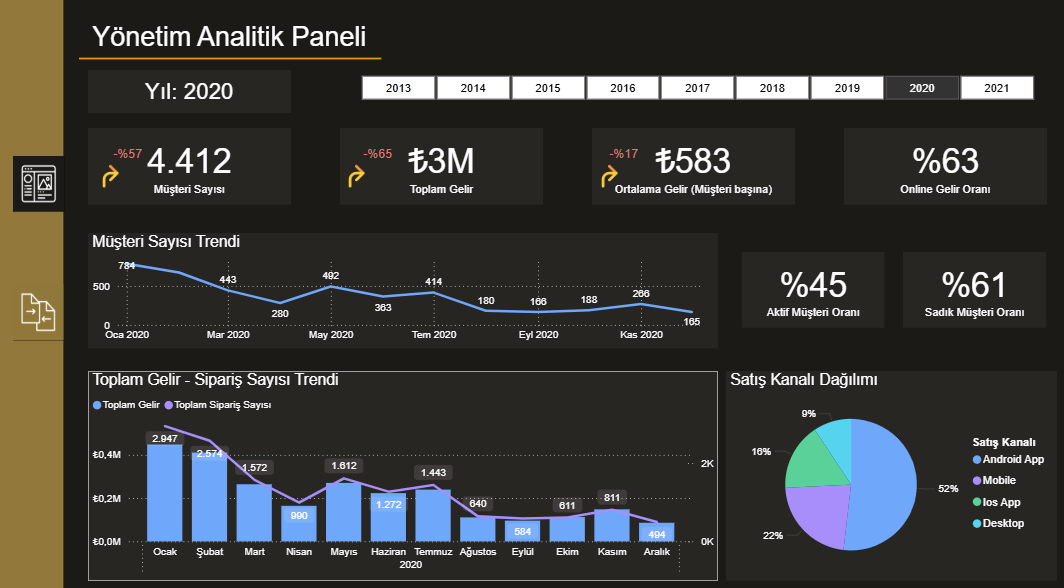

The dashboard page shown, as its layout file describes it:
{"tool":"powerbi","page":{"name":"Executive Summary","canvas":[1280,720],"ordinal":0},"visuals":[{"type":"card","fields":{"Values":["musteri_segmentleri.Müşteri Sayısı"]},"box":[108.9,162.3,240.9,90.7],"z":0},{"type":"card","fields":{"Values":["musteri_segmentleri.Toplam Gelir"]},"box":[408.2,162.3,240.9,90.7],"z":1000},{"type":"card","fields":{"Values":["musteri_segmentleri.Ortalama Gelir"]},"box":[707.5,162.3,240.9,90.7],"z":2000},{"type":"card","fields":{"Values":["musteri_segmentleri.Aktif Müşteri Oranı"]},"box":[885.9,310.4,169.3,89.7],"z":3000},{"type":"card","fields":{"Values":["musteri_segmentleri.Sadık Müşteri Oranı"]},"box":[1077.4,310.4,170.3,89.7],"z":4000},{"type":"card","fields":{"Values":["musteri_segmentleri.Online Gelir Oranı"]},"box":[1006.9,162.3,240.9,90.7],"z":5000},{"type":"lineChart","title":"Müşteri Sayısı Trendi","fields":{"Y":["Executive Summary.Müşteri Sayısı"],"Category":["dim Tarih.Date.Variation.Tarih Hiyerarşisi.Yıl","dim Tarih.Date.Variation.Tarih Hiyerarşisi.Ay"]},"box":[108.9,287.2,747.8,137.1],"z":6000},{"type":"pieChart","title":"Satış Kanalı Dağılımı","fields":{"Category":["musteri_segmentleri.order_channel"],"Y":["Executive Summary.Müşteri Sayısı"]},"box":[867.3,450.9,393,248.9],"z":7000},{"type":"slicer","fields":{"Values":["dim Tarih.Yıl"]},"box":[408.2,93.7,847.6,42.3],"z":8000},{"type":"lineStackedColumnComboChart","title":"Toplam Gelir - Sipariş Sayısı Trendi","fields":{"Category":["dim Tarih.Date.Variation.Tarih Hiyerarşisi.Yıl","dim Tarih.Date.Variation.Tarih Hiyerarşisi.Ay"],"Y":["Executive Summary.Toplam Gelir"],"Y2":["Executive Summary.Toplam Sipariş Sayısı"]},"box":[109.2,451.2,748.1,249.4],"z":9000},{"type":"textbox","box":[108.9,31.2,358.8,52.4],"z":10000},{"type":"card","fields":{"Values":["Executive Summary.Seçilen Başlık"]},"box":[109.2,93.8,240.6,50.8],"z":11000},{"type":"shape","box":[98.8,57.4,358.8,46.4],"z":12000},{"type":"card","fields":{"Values":["Executive Summary.Müşteri Sayısı (Artış)"]},"box":[126.8,173.8,59,42.6],"z":13000},{"type":"card","fields":{"Values":["Executive Summary.Toplam Gelir (artış)"]},"box":[424.1,173.8,59,42.6],"z":14000},{"type":"card","fields":{"Values":["Executive Summary.Ort. Gelir (Müşteri başına- artış)"]},"box":[716,173.8,59,42.6],"z":15000},{"type":"shape","box":[0,0,80,719.5],"z":16000},{"type":"actionButton","box":[20,196,60.6,65.8],"z":17000},{"type":"actionButton","box":[19.7,347.4,60.4,66.5],"z":17001},{"type":"image","box":[114.8,195.7,41.5,48.1],"z":17002},{"type":"image","box":[407.7,195.7,41.5,48.1],"z":17003},{"type":"image","box":[707.2,195.7,41.5,48.1],"z":17004}]}

Visuals, with their boxes in screenshot pixels (x1, y1, x2, y2), scaled from the page's 1280x720 canvas onto the 1064x588 screenshot:
card - musteri_segmentleri.Müşteri Sayısı: BBox(91, 133, 291, 207)
card - musteri_segmentleri.Toplam Gelir: BBox(339, 133, 540, 207)
card - musteri_segmentleri.Ortalama Gelir: BBox(588, 133, 788, 207)
card - musteri_segmentleri.Aktif Müşteri Oranı: BBox(736, 253, 877, 327)
card - musteri_segmentleri.Sadık Müşteri Oranı: BBox(896, 253, 1037, 327)
card - musteri_segmentleri.Online Gelir Oranı: BBox(837, 133, 1037, 207)
"Müşteri Sayısı Trendi" lineChart: BBox(91, 235, 712, 347)
"Satış Kanalı Dağılımı" pieChart: BBox(721, 368, 1048, 572)
slicer - dim Tarih.Yıl: BBox(339, 77, 1044, 111)
"Toplam Gelir - Sipariş Sayısı Trendi" lineStackedColumnComboChart: BBox(91, 368, 713, 572)
textbox: BBox(91, 25, 389, 68)
card - Executive Summary.Seçilen Başlık: BBox(91, 77, 291, 118)
shape: BBox(82, 47, 380, 85)
card - Executive Summary.Müşteri Sayısı (Artış): BBox(105, 142, 154, 177)
card - Executive Summary.Toplam Gelir (artış): BBox(353, 142, 402, 177)
card - Executive Summary.Ort. Gelir (Müşteri başına- artış): BBox(595, 142, 644, 177)
shape: BBox(0, 0, 66, 587)
actionButton: BBox(17, 160, 67, 214)
actionButton: BBox(16, 284, 67, 338)
image: BBox(95, 160, 130, 199)
image: BBox(339, 160, 373, 199)
image: BBox(588, 160, 622, 199)
